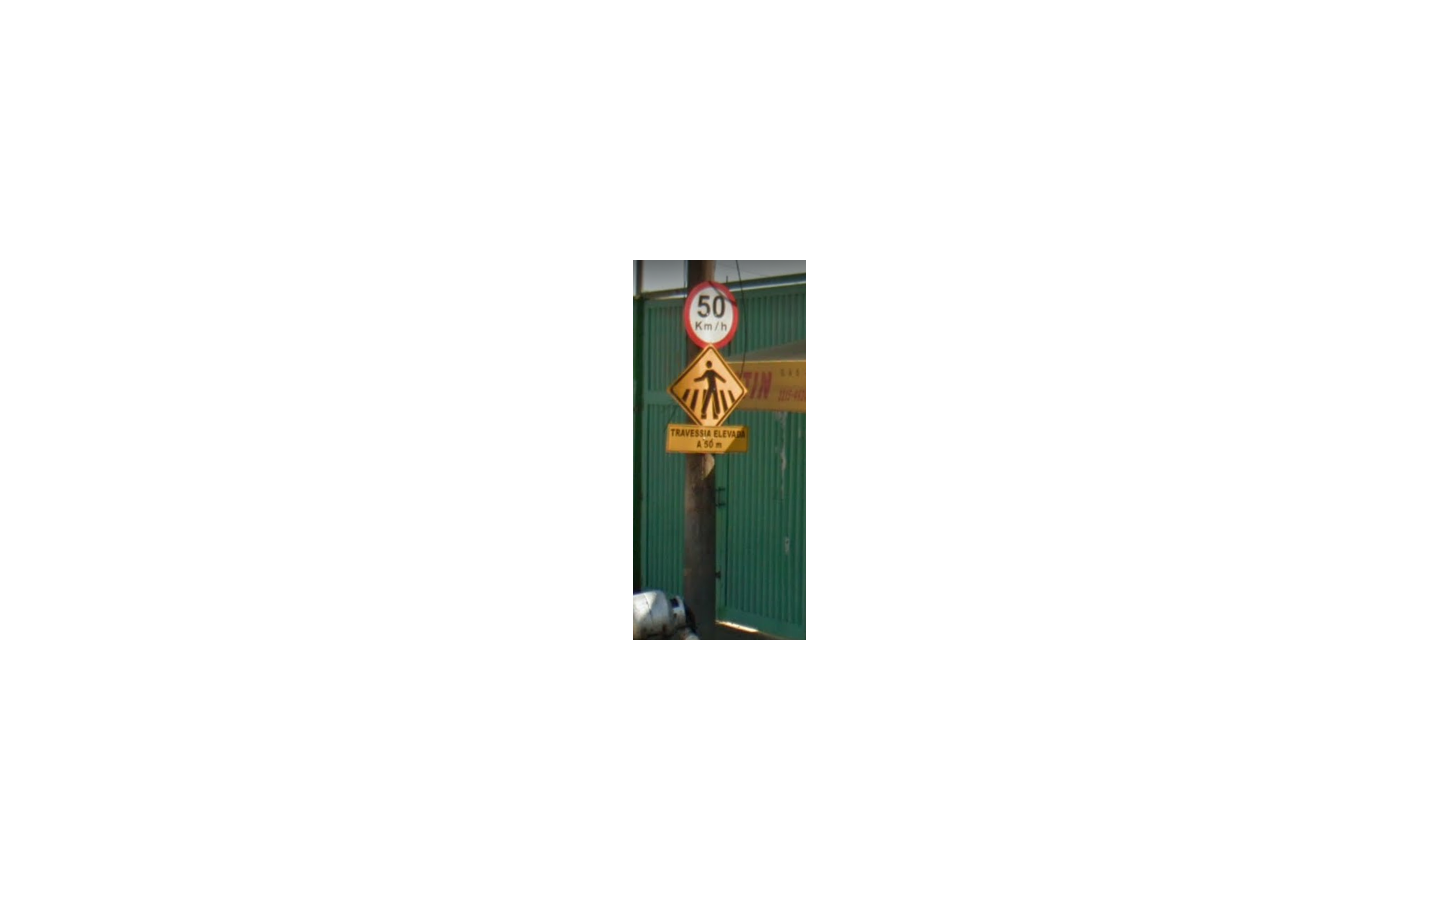t50m: (665, 343, 749, 454)
